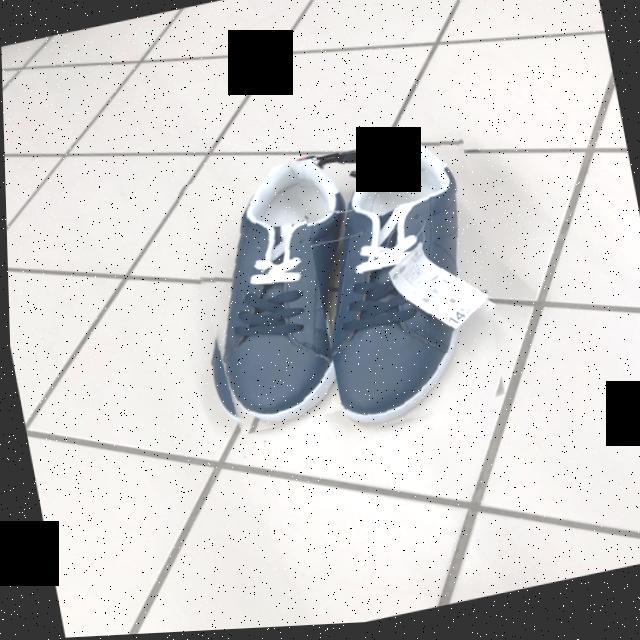shoe: (329, 145, 489, 432), (218, 162, 351, 430)
